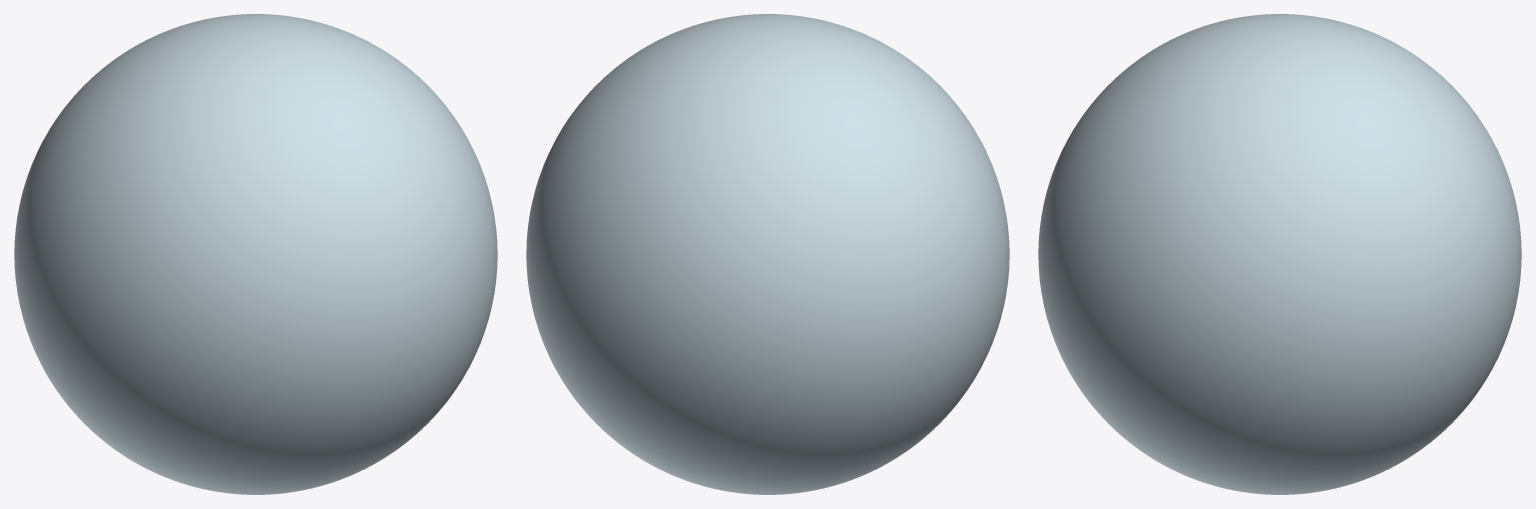
Rendered from mars.glb.
3 renders of one model, left to right at view 1: azimuth 30°, elevation 25°; view 2: azimuth 150°, elevation 25°; view 3: azimuth 270°, elevation 25°, orthographic.
Visible parts, largest first — view 1: Mars_AtmosphericLimb; view 2: Mars_AtmosphericLimb; view 3: Mars_AtmosphericLimb.
Part boxes in pixels (box(x1,y1,x2,y2)): Mars_AtmosphericLimb: box(14, 14, 497, 494); Mars_AtmosphericLimb: box(526, 14, 1009, 494); Mars_AtmosphericLimb: box(1038, 14, 1521, 494).
Bounding box in the file's own units: 1.01 × 1 × 1.01.
